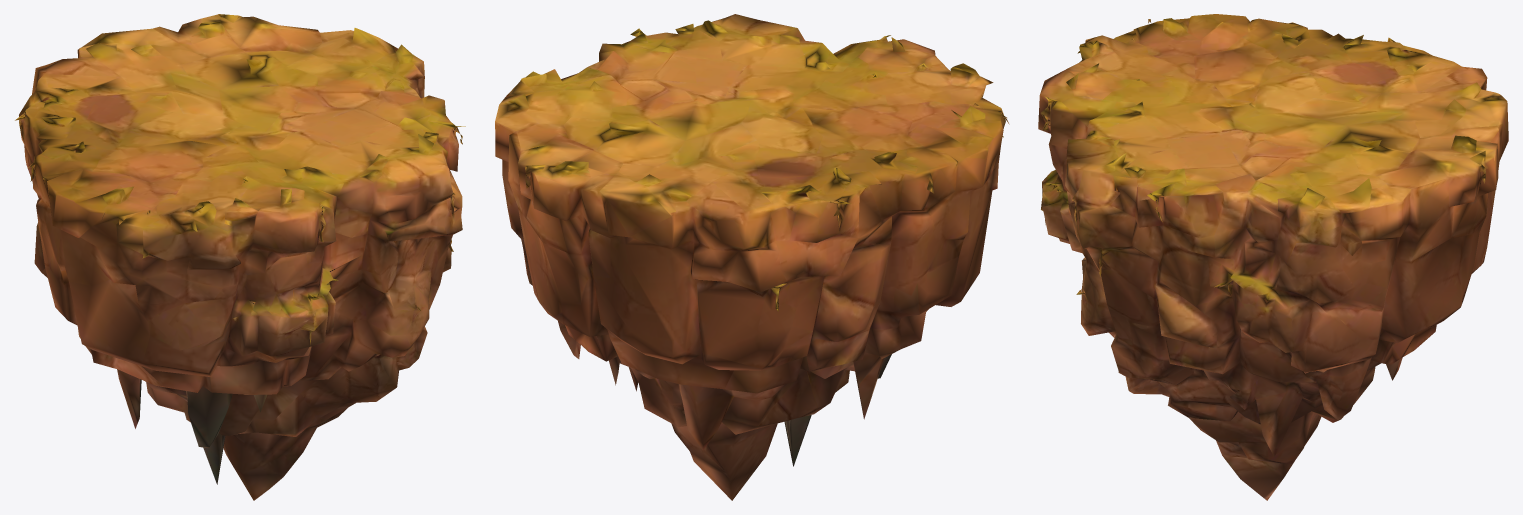
Rendered from cliff-b.glb.
The picture shows the model from 3 angles, left to right: view 1: azimuth 30°, elevation 25°; view 2: azimuth 150°, elevation 25°; view 3: azimuth 270°, elevation 25°; orthographic projection. The views are drawn at different scales.
Visible parts, largest first — view 1: tripo_node_7eeeb3dd-4ab9-4e8a-aaf9-a5bc55ffbc6c; view 2: tripo_node_7eeeb3dd-4ab9-4e8a-aaf9-a5bc55ffbc6c; view 3: tripo_node_7eeeb3dd-4ab9-4e8a-aaf9-a5bc55ffbc6c.
Part boxes in pixels (left/top/right/bottom): tripo_node_7eeeb3dd-4ab9-4e8a-aaf9-a5bc55ffbc6c: left=15, top=14, right=465, bottom=500; tripo_node_7eeeb3dd-4ab9-4e8a-aaf9-a5bc55ffbc6c: left=495, top=14, right=1009, bottom=500; tripo_node_7eeeb3dd-4ab9-4e8a-aaf9-a5bc55ffbc6c: left=1038, top=14, right=1508, bottom=500.
Bounding box in the file's own units: 0.9598 × 0.8826 × 0.9488.
1 material, 1 textured.
